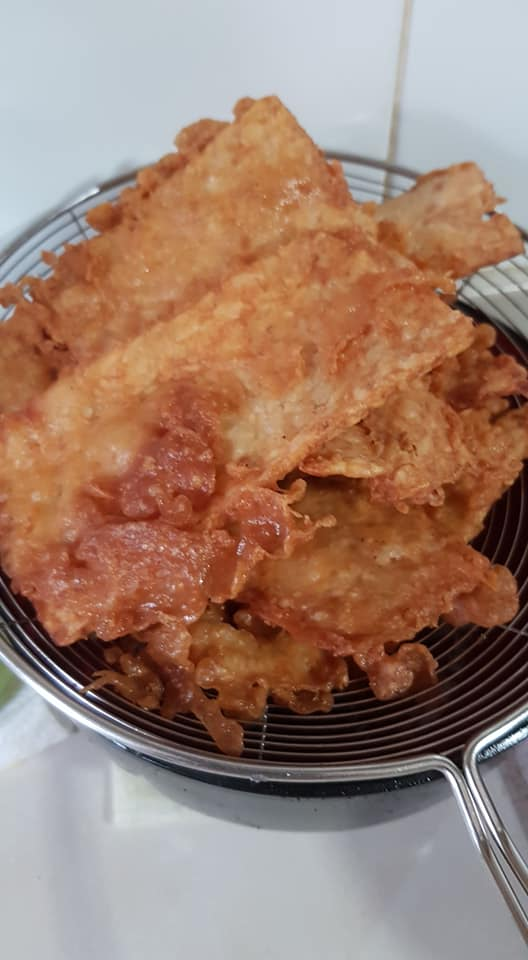Tempe: (1, 222, 414, 636)
